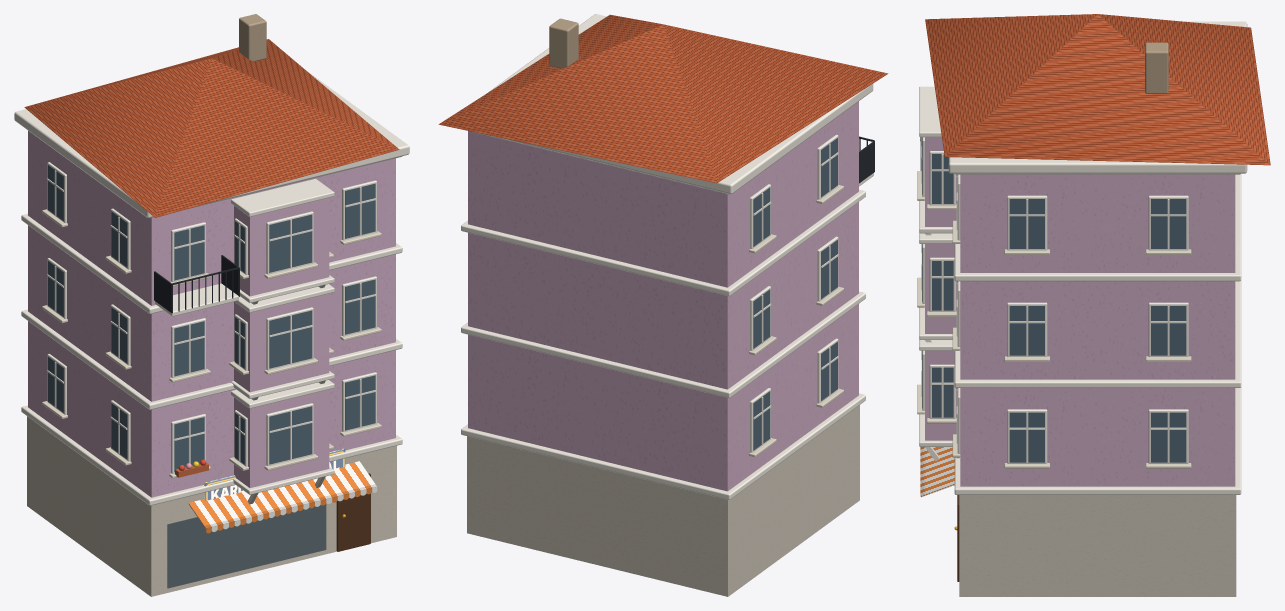
File: apartman.glb
3 renders of one model, left to right at view 1: azimuth 30°, elevation 25°; view 2: azimuth 150°, elevation 25°; view 3: azimuth 270°, elevation 25°, orthographic. The views are drawn at different scales.
Visible parts, largest first — view 1: apartman; view 2: apartman; view 3: apartman.
Part boxes in pixels (box(x1,y1,x2,y2)): apartman: box(14, 14, 409, 596); apartman: box(438, 14, 888, 596); apartman: box(917, 14, 1270, 596).
Size of the model in its own units: 8.8 by 14.6 by 9.
Materials: 18 (7 with a texture image).
